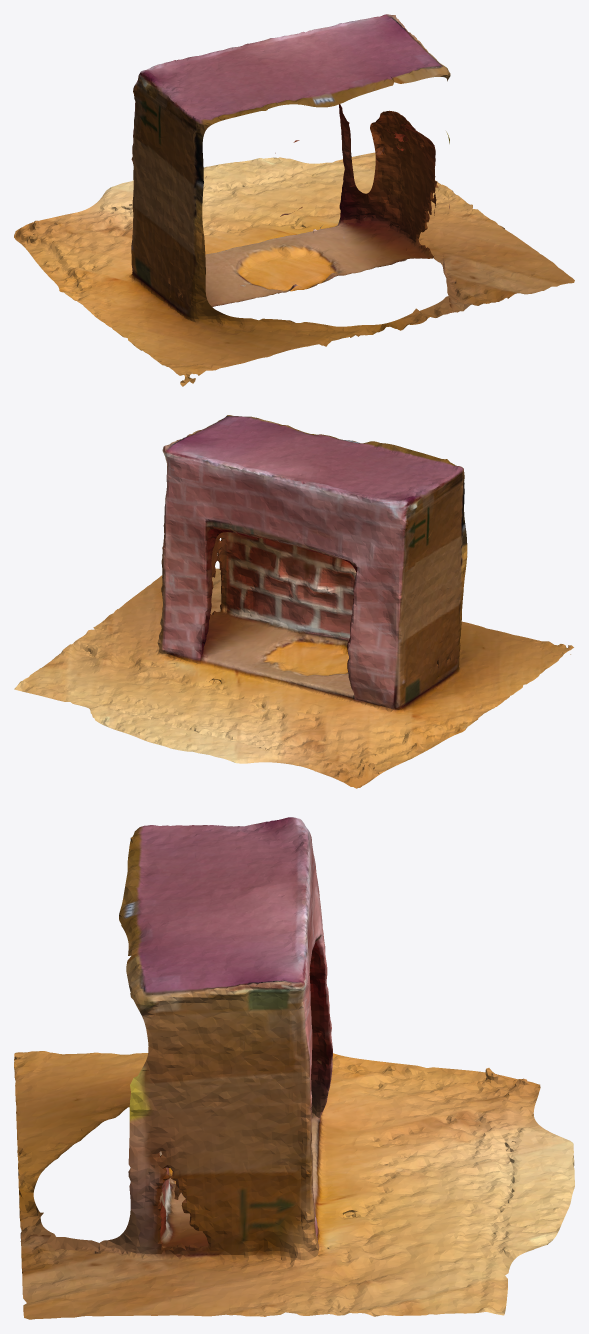
The model's file is fireplace.glb.
3 renders of one model, top to bottom at view 1: azimuth 30°, elevation 25°; view 2: azimuth 150°, elevation 25°; view 3: azimuth 270°, elevation 25°, orthographic. The views are drawn at different scales.
Size of the model in its own units: 0.4135 by 0.218 by 0.3752.
Materials: 1 (1 with a texture image).
